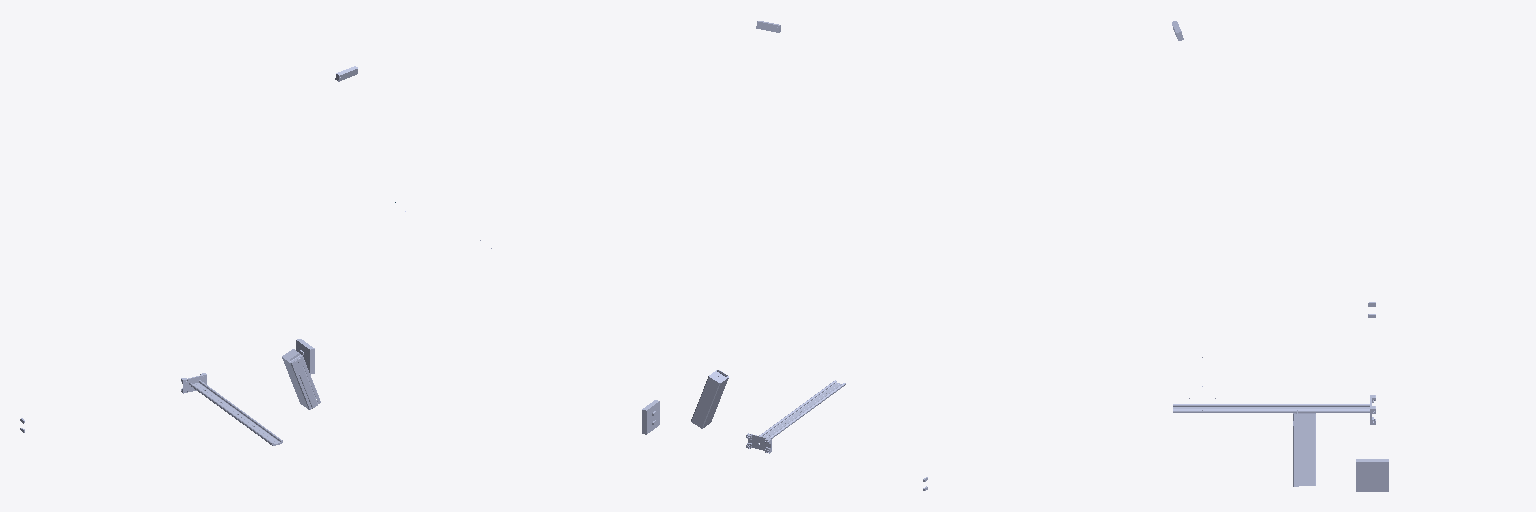
--- Facts derived from the render (not from the file) ---
The picture shows the robot from 3 angles, left to right: view 1: azimuth 30°, elevation 25°; view 2: azimuth 150°, elevation 25°; view 3: azimuth 270°, elevation 25°; orthographic projection.
Model robo_description with 21 links and 20 joints (2 revolute, 2 prismatic, 16 fixed), rooted at base_link, posed all joints at 0 but 1 set to mid-range because 0 is outside their limits (joint5 = 0.4665).
Links seen in each view (by area): view 1: link2, link5; view 2: link2, link5, base_link; view 3: link2, link5, base_link.
Link boxes in pixels (box(x1,y1,x2,y2)): link2: box(181, 373, 282, 445); link5: box(282, 349, 320, 409); link2: box(746, 380, 845, 453); link5: box(691, 370, 728, 428); base_link: box(642, 400, 927, 490); link2: box(1173, 395, 1375, 424); link5: box(1293, 410, 1315, 486); base_link: box(1356, 302, 1388, 491).
Size in the robot's own frame: 1.65 by 0.6615 by 1.52 metres.
4 mesh visuals loaded from 6 distinct referenced files (4 binary STL); not drawn: 2 (reference not matched to a file when rendering).

URDF robot description (robo_description):
<?xml version="1.0" encoding="utf-8"?>
<!-- 25AUG2023 Changed the minimum limit of lJoint5 to 0.247 and max to 0.686 -->
<!-- This URDF was automatically created by SolidWorks to URDF Exporter! Originally created by Stephen Brawner ([email redacted]) 
     Commit Version: 1.6.0-4-g7f85cfe  Build Version: 1.6.7995.38578
     For more information, please see http://wiki.ros.org/sw_urdf_exporter -->
<robot
  name="robo_description">
  <link
    name="base_link">
    <inertial>
      <origin
        xyz="-5.13826234849775E-17 -1.63904738952765E-17 0.339473684210526"
        rpy="0 0 0" />
      <mass
        value="19" />
      <inertia
        ixx="2.34956140350877"
        ixy="1.11311423041845E-17"
        ixz="3.69215798456927E-16"
        iyy="2.34956140350877"
        iyz="-7.44985984223617E-17"
        izz="0.151666666666667" />
    </inertial>
    <visual>
      <origin
        xyz="0 0 0"
        rpy="0 0 0" />
      <geometry>
        <mesh
          filename="package://robo_description/meshes/base_link.STL" />
      </geometry>
      <material
        name="">
        <color
          rgba="0.792156862745098 0.819607843137255 0.933333333333333 1" />
      </material>
    </visual>
    <collision>
      <origin
        xyz="0 0 0"
        rpy="0 0 0" />
      <geometry>
        <mesh
          filename="package://robo_description/meshes/base_link.STL" />
      </geometry>
    </collision>
  </link>
  <link
    name="link2">
    <inertial>
      <origin
        xyz="-0.001261 -0.2858 0.14572"
        rpy="0 0 0" />
      <mass
        value="3.13280329013611" />
      <inertia
        ixx="0.0169430024052603"
        ixy="-0.00280446630124331"
        ixz="0.0223183329111622"
        iyy="0.162057682822749"
        iyz="0.000505061238040558"
        izz="0.161640952999751" />
    </inertial>
    <visual>
      <origin
        xyz="0 0 -1"
        rpy="0 0 0" />
      <geometry>
        <mesh
          filename="package://robo_description/meshes/link2.STL" />
      </geometry>
      <material
        name="">
        <color
          rgba="0.792156862745098 0.819607843137255 0.933333333333333 1" />
      </material>
    </visual>
    <collision>
      <origin
        xyz="0 0 0"
        rpy="0 0 0" />
      <geometry>
        <mesh
          filename="package://robo_description/meshes/link2.STL" />
      </geometry>
    </collision>
  </link>
  <joint
    name="joint2"
    type="prismatic">
    <origin
      xyz="0.0 0 1"
      rpy="0 0 0" />
    <parent
      link="base_link" />
    <child
      link="link2" />
    <axis
      xyz="0 0 1" />
    <limit
      lower="0"
      upper="1"
      effort="0"
      velocity="0" />
  </joint>
  <link
    name="link4">
    <inertial>
      <origin
        xyz="-0.000438554587764983 0.0620490502692163 -0.172885898172371"
        rpy="0 0 0" />
      <mass
        value="0.162146723185788" />
      <inertia
        ixx="0.00336616371871891"
        ixy="1.46811284877534E-06"
        ixz="-3.57096843523024E-06"
        iyy="0.00312866852492012"
        iyz="0.00048231220150353"
        izz="0.000338308018448651" />
    </inertial>
    <visual>
      <origin
        xyz="-0.4665 0 -0.790"
        rpy="0 0 0" />
      <geometry>
        <mesh
          filename="package://robo_description/meshes/link4.STL" />
      </geometry>
      <material
        name="">
        <color
          rgba="0.792156862745098 0.819607843137255 0.933333333333333 1" />
      </material>
    </visual>
    <collision>
      <origin
        xyz="0 0 0"
        rpy="0 0 0" />
      <geometry>
        <mesh
          filename="package://robo_description/meshes/link4.STL" />
      </geometry>
    </collision>
  </link>
  <joint
    name="joint4"
    type="revolute">
    <origin
      xyz="0.46904 0 -0.21"
      rpy="0 0 0" />
    <parent
      link="link2" />
    <child
      link="link4" />
    <axis
      xyz="0 0 1" />
    <limit
      lower="-2.9671"
      upper="2.9671"
      effort="0"
      velocity="0" />
  </joint>
  <link
    name="link3">
    <inertial>
      <origin
        xyz="-0.0832189655707039 -0.0894795892974461 -0.00179630042130147"
        rpy="0 0 0" />
      <mass
        value="1.71811977068641" />
      <inertia
        ixx="0.00948440583507882"
        ixy="-0.00159429497921182"
        ixz="0.00308193362516688"
        iyy="0.035537875179704"
        iyz="0.000648421421055908"
        izz="0.0305779645247813" />
    </inertial>
    <visual>
      <origin
        xyz="-0.468545 -0.078 -0.43528"
        rpy="0 0 0" />
      <geometry>
        <mesh
          filename="package://robo_description/meshes/link3.STL" />
      </geometry>
      <material
        name="">
        <color
          rgba="0.792156862745098 0.819607843137255 0.933333333333333 1" />
      </material>
    </visual>
    <collision>
      <origin
        xyz="0 0 0"
        rpy="0 0 0" />
      <geometry>
        <mesh
          filename="package://robo_description/meshes/link3.STL" />
      </geometry>
    </collision>
  </link>
  <joint
    name="joint3"
    type="revolute">
    <origin
      xyz="0.0 0.077824 -0.35472"
      rpy="0 0 0" />
    <parent
      link="link4" />
    <child
      link="link3" />
    <axis
      xyz="0 1 0" />
    <limit
      lower="-1.5708"
      upper="1.5708"
      effort="0"
      velocity="0" />
  </joint>
  <link
    name="yanthra_link">
    <inertial>
      <origin
        xyz="-0.0832189655707036 -0.0114795892974462 -0.00179630042130124"
        rpy="0 0 0" />
      <mass
        value="1.71811977068641" />
      <inertia
        ixx="0.00948440583507882"
        ixy="-0.00159429497921182"
        ixz="0.0030819336251669"
        iyy="0.035537875179704"
        iyz="0.000648421421055907"
        izz="0.0305779645247813" />
    </inertial>
    <visual>
      <origin
        xyz="0 0 0"
        rpy="0 0 0" />
      <geometry>
        <box size="0.001 0.001 0.001"/>
      </geometry>
      <material
        name="">
        <color
          rgba="0.792156862745098 0.819607843137255 0.933333333333333 1" />
      </material>
    </visual>
    <collision>
      <origin
        xyz="0 0 0"
        rpy="0 0 0" />
      <geometry>
        <box size="0.001 0.001 0.001"/>
      </geometry>
    </collision>
  </link>
  <joint
    name="yanthra_joint"
    type="fixed">
    <origin
      xyz="0 -0.078 0"
      rpy="0 0 0" />
    <parent
      link="link3" />
    <child
      link="yanthra_link" />
    <axis
      xyz="0 0 0" />
  </joint>
  <link
    name="link5_origin">
    <inertial>
      <origin
        xyz="-0.00874999999999998 0.0375 -0.00507843424240889"
        rpy="0 0 0" />
      <mass
        value="0.0438088883035136" />
      <inertia
        ixx="3.24913884800222E-05"
        ixy="1.33063310958086E-21"
        ixz="-8.470329472543E-22"
        iyy="3.99574478810853E-06"
        iyz="-3.38875204913906E-21"
        izz="3.07317223657389E-05" />
    </inertial>
    <visual>
      <origin
        xyz="0 0 0"
        rpy="0 0 0" />
      <geometry>
        <box size="0.001 0.001 0.001"/>
      </geometry>
      <material
        name="">
        <color
          rgba="0.792156862745098 0.819607843137255 0.933333333333333 1" />
      </material>
    </visual>
    <collision>
      <origin
        xyz="0 0 0"
        rpy="0 0 0" />
      <geometry>
        <box size="0.001 0.001 0.001"/>
      </geometry>
    </collision>
  </link>
  <joint
    name="link5_origin_joint"
    type="fixed">
    <origin
      xyz="0 0 0.0"
      rpy="0 0 0" />
    <parent	
      link="yanthra_link" />
    <child
      link="link5_origin" />
    <axis
      xyz="0 0 0" />
  </joint>
  <link
    name="link5">
    <inertial>
      <origin
        xyz="0.108132413871145 2.08242781028485E-06 0.00569147154470495"
        rpy="0 0 0" />
      <mass
        value="0.277404400359573" />
      <inertia
        ixx="0.00021628976171093"
        ixy="1.27900715148446E-06"
        ixz="-0.000135093187106687"
        iyy="0.00359200319167061"
        iyz="-8.36237914028336E-08"
        izz="0.00358633509004247" />
    </inertial>
    <visual>
      <origin
        xyz="-0.715545 0 -0.43528"
        rpy="0 0 0" />
      <geometry>
        <mesh
          filename="package://robo_description/meshes/link5.STL" />
      </geometry>
      <material
        name="">
        <color
          rgba="0.792156862745098 0.819607843137255 0.933333333333333 1" />
      </material>
    </visual>
    <collision>
      <origin
        xyz="0 0 0"
        rpy="0 0 0" />
      <geometry>
        <mesh
          filename="package://robo_description/meshes/link5.STL" />
      </geometry>
    </collision>
  </link>
  <joint
    name="joint5"
    type="prismatic">
    <origin
      xyz="0.0 0 0"
      rpy="0 0 0" />
    <parent
      link="link5_origin" />
    <child
      link="link5" />
    <axis
      xyz="1 0 0" />
    <limit
      lower="0.247"
      upper="0.686"
      effort="0"
      velocity="0" />
  </joint>
  <link
    name="ee_link">
    <inertial>
      <origin
        xyz="-0.00874999999999998 0.0375 -0.00507843424240889"
        rpy="0 0 0" />
      <mass
        value="0.0438088883035136" />
      <inertia
        ixx="3.24913884800222E-05"
        ixy="1.33063310958086E-21"
        ixz="-8.470329472543E-22"
        iyy="3.99574478810853E-06"
        iyz="-3.38875204913906E-21"
        izz="3.07317223657389E-05" />
    </inertial>
    <visual>
      <origin
        xyz="0 0 0"
        rpy="0 0 0" />
      <geometry>
        <box size="0.001 0.001 0.001"/>
      </geometry>
      <material
        name="">
        <color
          rgba="0.792156862745098 0.819607843137255 0.933333333333333 1" />
      </material>
    </visual>
    <collision>
      <origin
        xyz="0 0 0"
        rpy="0 0 0" />
      <geometry>
        <box size="0.001 0.001 0.001"/>
      </geometry>
    </collision>
  </link>
  <joint
    name="ee_joint"
    type="fixed">
    <origin
      xyz="-0.085 0 0"
      rpy="0 0 0" />
    <parent	
      link="link5" />
    <child
      link="ee_link" />
    <axis
      xyz="0 0 0" />
  </joint>
  <link
    name="aruco_marker_link">
    <inertial>
      <origin
        xyz="-0.00874999999999998 0.0375 -0.00507843424240889"
        rpy="0 0 0" />
      <mass
        value="0.0438088883035136" />
      <inertia
        ixx="3.24913884800222E-05"
        ixy="1.33063310958086E-21"
        ixz="-8.470329472543E-22"
        iyy="3.99574478810853E-06"
        iyz="-3.38875204913906E-21"
        izz="3.07317223657389E-05" />
    </inertial>
    <visual>
      <origin
        xyz="0 0 0"
        rpy="0 0 0" />
      <geometry>
        <box size="0.001 0.001 0.001"/>
      </geometry>
      <material
        name="">
        <color
          rgba="0.792156862745098 0.819607843137255 0.933333333333333 1" />
      </material>
    </visual>
    <collision>
      <origin
        xyz="0 0 0"
        rpy="0 0 0" />
      <geometry>
        <box size="0.001 0.001 0.001"/>
      </geometry>
    </collision>
  </link>
  <joint
    name="aruco_joint"
    type="fixed">
    <origin
      xyz="0.0 0 0.08"
      rpy="0 0 0" />
    <parent	
      link="ee_link" />
    <child
      link="aruco_marker_link" />
    <axis
      xyz="0 0 0" />
  </joint>
  <link
    name="aruco_link_1">
    <inertial>
      <origin
        xyz="-0.00874999999999998 0.0375 -0.00507843424240889"
        rpy="0 0 0" />
      <mass
        value="0.0438088883035136" />
      <inertia
        ixx="3.24913884800222E-05"
        ixy="1.33063310958086E-21"
        ixz="-8.470329472543E-22"
        iyy="3.99574478810853E-06"
        iyz="-3.38875204913906E-21"
        izz="3.07317223657389E-05" />
    </inertial>
    <visual>
      <origin
        xyz="0 0 0"
        rpy="0 0 0" />
      <geometry>
        <box size="0.001 0.001 0.001"/>
      </geometry>
      <material
        name="">
        <color
          rgba="0.792156862745098 0.819607843137255 0.933333333333333 1" />
      </material>
    </visual>
    <collision>
      <origin
        xyz="0 0 0"
        rpy="0 0 0" />
      <geometry>
        <box size="0.001 0.001 0.001"/>
      </geometry>
    </collision>
  </link>
  <joint
    name="aruco_joint_1"
    type="fixed">
    <origin
      xyz="0.0 0.04 0.04"
      rpy="0 0 0" />
    <parent	
      link="aruco_marker_link" />
    <child
      link="aruco_link_1" />
    <axis
      xyz="0 0 0" />
  </joint>
  <link
    name="aruco_link_2">
    <inertial>
      <origin
        xyz="-0.00874999999999998 0.0375 -0.00507843424240889"
        rpy="0 0 0" />
      <mass
        value="0.0438088883035136" />
      <inertia
        ixx="3.24913884800222E-05"
        ixy="1.33063310958086E-21"
        ixz="-8.470329472543E-22"
        iyy="3.99574478810853E-06"
        iyz="-3.38875204913906E-21"
        izz="3.07317223657389E-05" />
    </inertial>
    <visual>
      <origin
        xyz="0 0 0"
        rpy="0 0 0" />
      <geometry>
        <box size="0.001 0.001 0.001"/>
      </geometry>
      <material
        name="">
        <color
          rgba="0.792156862745098 0.819607843137255 0.933333333333333 1" />
      </material>
    </visual>
    <collision>
      <origin
        xyz="0 0 0"
        rpy="0 0 0" />
      <geometry>
        <box size="0.001 0.001 0.001"/>
      </geometry>
    </collision>
  </link>
  <joint
    name="aruco_joint_2"
    type="fixed">
    <origin
      xyz="0.0 -0.04 0.04"
      rpy="0 0 0" />
    <parent	
      link="aruco_marker_link" />
    <child
      link="aruco_link_2" />
    <axis
      xyz="0 0 0" />
  </joint>
  <link
    name="aruco_link_3">
    <inertial>
      <origin
        xyz="-0.00874999999999998 0.0375 -0.00507843424240889"
        rpy="0 0 0" />
      <mass
        value="0.0438088883035136" />
      <inertia
        ixx="3.24913884800222E-05"
        ixy="1.33063310958086E-21"
        ixz="-8.470329472543E-22"
        iyy="3.99574478810853E-06"
        iyz="-3.38875204913906E-21"
        izz="3.07317223657389E-05" />
    </inertial>
    <visual>
      <origin
        xyz="0 0 0"
        rpy="0 0 0" />
      <geometry>
        <box size="0.001 0.001 0.001"/>
      </geometry>
      <material
        name="">
        <color
          rgba="0.792156862745098 0.819607843137255 0.933333333333333 1" />
      </material>
    </visual>
    <collision>
      <origin
        xyz="0 0 0"
        rpy="0 0 0" />
      <geometry>
        <box size="0.001 0.001 0.001"/>
      </geometry>
    </collision>
  </link>
  <joint
    name="aruco_joint_3"
    type="fixed">
    <origin
      xyz="0.0 0.04 -0.04"
      rpy="0 0 0" />
    <parent	
      link="aruco_marker_link" />
    <child
      link="aruco_link_3" />
    <axis
      xyz="0 0 0" />
  </joint>
  <link
    name="aruco_link_4">
    <inertial>
      <origin
        xyz="-0.00874999999999998 0.0375 -0.00507843424240889"
        rpy="0 0 0" />
      <mass
        value="0.0438088883035136" />
      <inertia
        ixx="3.24913884800222E-05"
        ixy="1.33063310958086E-21"
        ixz="-8.470329472543E-22"
        iyy="3.99574478810853E-06"
        iyz="-3.38875204913906E-21"
        izz="3.07317223657389E-05" />
    </inertial>
    <visual>
      <origin
        xyz="0 0 0"
        rpy="0 0 0" />
      <geometry>
        <box size="0.001 0.001 0.001"/>
      </geometry>
      <material
        name="">
        <color
          rgba="0.792156862745098 0.819607843137255 0.933333333333333 1" />
      </material>
    </visual>
    <collision>
      <origin
        xyz="0 0 0"
        rpy="0 0 0" />
      <geometry>
        <box size="0.001 0.001 0.001"/>
      </geometry>
    </collision>
  </link>
  <joint
    name="aruco_joint_4"
    type="fixed">
    <origin
      xyz="0.0 -0.04 -0.04"
      rpy="0 0 0" />
    <parent	
      link="aruco_marker_link" />
    <child
      link="aruco_link_4" />
    <axis
      xyz="0 0 0" />
  </joint>
  <link
    name="link7">
    <inertial>
      <origin
        xyz="-0.00129487747822488 -0.0114795892973884 0.11996423535158"
        rpy="0 0 0" />
      <mass
        value="1.71811977068641" />
      <inertia
        ixx="0.0113386071435481"
        ixy="-0.00171490439294498"
        ixz="-0.00672100859249017"
        iyy="0.0355378751797041"
        iyz="-0.0001460470577602"
        izz="0.0287237632163119" />
    </inertial>
    <visual>
      <origin
        xyz="0 0 0"
        rpy="0 0 0" />
      <geometry>
        <box size="0.001 0.001 0.001"/>
      </geometry>
      <material
        name="">
        <color
          rgba="0.792156862745098 0.819607843137255 0.933333333333333 1" />
      </material>
    </visual>
    <collision>
      <origin
        xyz="0 0 0"
        rpy="0 0 0" />
      <geometry>
        <box size="0.001 0.001 0.001"/>
      </geometry>
    </collision>
  </link>
  <joint
    name="joint7"
    type="fixed">
    <origin
      xyz="0.47229 -0.069971 0.80411"
      rpy="0 0.785398 -1.5708" />
    <parent
      link="base_link"/>
    <child
      link="link7"/>
    <axis
      xyz="0 0 0" />
  </joint>
  <link
    name="camera_mount_link">
    <inertial>
      <origin
        xyz="-0.00129487747822488 -0.0114795892973883 0.11996423535158"
        rpy="0 0 0" />
      <mass
        value="1.71811977068641" />
      <inertia
        ixx="0.0113386071435481"
        ixy="-0.00171490439294498"
        ixz="-0.00672100859249018"
        iyy="0.0355378751797041"
        iyz="-0.000146047057760202"
        izz="0.0287237632163119" />
    </inertial>
    <visual>
      <origin
        xyz="0 0 0"
        rpy="0 0 0" />
      <geometry>
        <box size="0.001 0.001 0.001"/>
      </geometry>
      <material
        name="">
        <color
          rgba="0.792156862745098 0.819607843137255 0.933333333333333 1" />
      </material>
    </visual>
    <collision>
      <origin
        xyz="0 0 0"
        rpy="0 0 0" />
      <geometry>
        <box size="0.001 0.001 0.001"/>
      </geometry>
    </collision>
  </link>
     <!--Realsense Camera depth is 20 mm from back to glass, But the depth start point(GROUND ZERO REFERENCE i.e depth is Zero) is 1.1 mm behind glass-->
     <!--Camera thickness-Zero Ref +Plate thick=20-1.1+2 = 20.09 mm -->
     <!-- xyz="0.0209 -0.0375 0"-->
  <joint
    name="camera_mount_joint"
    type="fixed">
    <origin
      xyz="0.02090 -0.0375 0"
      rpy="-1.5708 0 -1.5708" />
    <parent
      link="link7" />
    <child
      link="camera_mount_link" />
    <axis
      xyz="0 0 0" />
  </joint>
  <link
    name="virtual_cam_link">
    <inertial>
      <origin
        xyz="-0.00874999999999998 0.0375 -0.00507843424240889"
        rpy="0 0 0" />
      <mass
        value="0.0438088883035136" />
      <inertia
        ixx="3.24913884800222E-05"
        ixy="1.33063310958086E-21"
        ixz="-8.470329472543E-22"
        iyy="3.99574478810853E-06"
        iyz="-3.38875204913906E-21"
        izz="3.07317223657389E-05" />
    </inertial>
    <visual>
      <origin
        xyz="0 0 0"
        rpy="0 0 0" />
      <geometry>
        <box size="0.001 0.001 0.001"/>
      </geometry>
      <material
        name="">
        <color
          rgba="0.792156862745098 0.819607843137255 0.933333333333333 1" />
      </material>
    </visual>
    <collision>
      <origin
        xyz="0 0 0"
        rpy="0 0 0" />
      <geometry>
        <box size="0.001 0.001 0.001"/>
      </geometry>
    </collision>
  </link>
  <joint
    name="virtual_cam_link_joint"
    type="fixed">
    <origin
      xyz="0 0 0"
      rpy="0 0 0" />
    <parent	
      link="camera_mount_link" />
    <child
      link="virtual_cam_link" />
    <axis
      xyz="0 0 0" />
  </joint>

  <link
    name="camera_link">
    <inertial>
      <origin
        xyz="-0.00874999999999998 0.0375 -0.00507843424240889"
        rpy="0 0 0" />
      <mass
        value="0.0438088883035136" />
      <inertia
        ixx="3.24913884800222E-05"
        ixy="1.33063310958086E-21"
        ixz="-8.470329472543E-22"
        iyy="3.99574478810853E-06"
        iyz="-3.38875204913906E-21"
        izz="3.07317223657389E-05" />
    </inertial>
    <visual>
      <origin
        xyz="-0.03768 -0.425 -0.175"
        rpy="0 -2.04 -1.5708" />
      <geometry>
        <mesh
          filename="package://robo_description/meshes/camera_link.STL" />
      </geometry>
      <material
        name="">
        <color
          rgba="0.792156862745098 0.819607843137255 0.933333333333333 1" />
      </material>
    </visual>
    <collision>
      <origin
        xyz="0 0 0"
        rpy="0 0 0" />
      <geometry>
        <mesh
          filename="package://robo_description/meshes/camera_link.STL" />
      </geometry>
    </collision>
  </link>
  <joint
    name="camera_link_joint"
    type="fixed">
    <origin
      xyz="-0.00885715 -0.0083959 -0.0606242"
      rpy="0.238516 -0.143408 -0.0857267" />
    <parent
      link="virtual_cam_link" />
    <child
      link="camera_link" />
    <axis
      xyz="0 0 0" />
  </joint>

  <link name="camera_depth_frame">

    <visual>

    <origin xyz="0 0 0" rpy="0 0 0" />

      <geometry>

        <box size="0.001 0.001 0.001"/>

      </geometry>

    </visual>

  </link>

  <joint name="camera_depth_frame_joint" type="fixed">

    <origin rpy="0 0 0" xyz="0 0 0"/>

    <parent link="camera_link"/>

    <child link="camera_depth_frame"/>

  </joint>

  <link name="camera_depth_optical_frame">

    <visual>

    <origin xyz="0 0 0" rpy="0 0 0" />

      <geometry>

        <box size="0.001 0.001 0.001"/>

      </geometry>

    </visual>

  </link>

  <joint name="camera_depth_optical_frame_joint" type="fixed">

   <origin rpy="0 0 0" xyz="0 0 0"/>

   <parent link="camera_depth_frame"/>

   <child link="camera_depth_optical_frame"/>

  </joint>

  <link name="camera_color_frame">

    <visual>

    <origin xyz="0 0 0" rpy="0 0 0" />

      <geometry>

        <box size="0.001 0.001 0.001"/>

      </geometry>

    </visual>

  </link>

  <joint name="camera_color_frame_joint" type="fixed">

    <origin rpy="0 0 0" xyz="0 0 0"/>

    <parent link="camera_link"/>

    <child link="camera_color_frame"/>

  </joint>

  <link name="camera_color_optical_frame">

    <visual>

    <origin xyz="0 0 0" rpy="0 0 0" />

      <geometry>

        <box size="0.001 0.001 0.001"/>

      </geometry>

    </visual>

  </link>

  <joint name="camera_color_optical_frame_joint" type="fixed">

   <origin rpy="0 0 0" xyz="0 0 0"/>

   <parent link="camera_color_frame"/>

   <child link="camera_color_optical_frame"/>

  </joint>
  <gazebo reference="stand">

    <material>Gazebo/Grey</material>

  </gazebo>

  <gazebo reference="link3">

    <material>Gazebo/Green</material>

  </gazebo>

  <gazebo reference="link4">

    <material>Gazebo/Red</material>

  </gazebo>

  <gazebo reference="link5">

    <material>Gazebo/Green</material>

  </gazebo>

  <gazebo reference="link9">

    <material>Gazebo/Red</material>

  </gazebo>

  <gazebo reference="link6">

    <material>Gazebo/White</material>

  </gazebo>

  <transmission name="tran1">

    <type>transmission_interface/SimpleTransmission</type>

    <joint name="joint3">

      <hardwareInterface>hardware_interface/PositionJointInterface</hardwareInterface>

    </joint>

    <actuator name="motor1">

      <hardwareInterface>hardware_interface/PositionJointInterface</hardwareInterface>

      <mechanicalReduction>1</mechanicalReduction>

    </actuator>

  </transmission>

  <transmission name="tran1">

    <type>transmission_interface/SimpleTransmission</type>

    <joint name="joint4">

      <hardwareInterface>hardware_interface/PositionJointInterface</hardwareInterface>

    </joint>

    <actuator name="motor1">

      <hardwareInterface>hardware_interface/PositionJointInterface</hardwareInterface>

      <mechanicalReduction>1</mechanicalReduction>

    </actuator>

  </transmission>

  <transmission name="tran1">

    <type>transmission_interface/SimpleTransmission</type>

    <joint name="joint5">

      <hardwareInterface>hardware_interface/PositionJointInterface</hardwareInterface>

    </joint>

    <actuator name="motor1">

      <hardwareInterface>hardware_interface/PositionJointInterface</hardwareInterface>

      <mechanicalReduction>1</mechanicalReduction>

    </actuator>

  </transmission>

  <gazebo>

    <plugin filename="libgazebo_ros_control.so" name="gazebo_ros_control">

      <robotNameSpace>/arm_controller</robotNameSpace>

    </plugin>

  </gazebo>

</robot>
